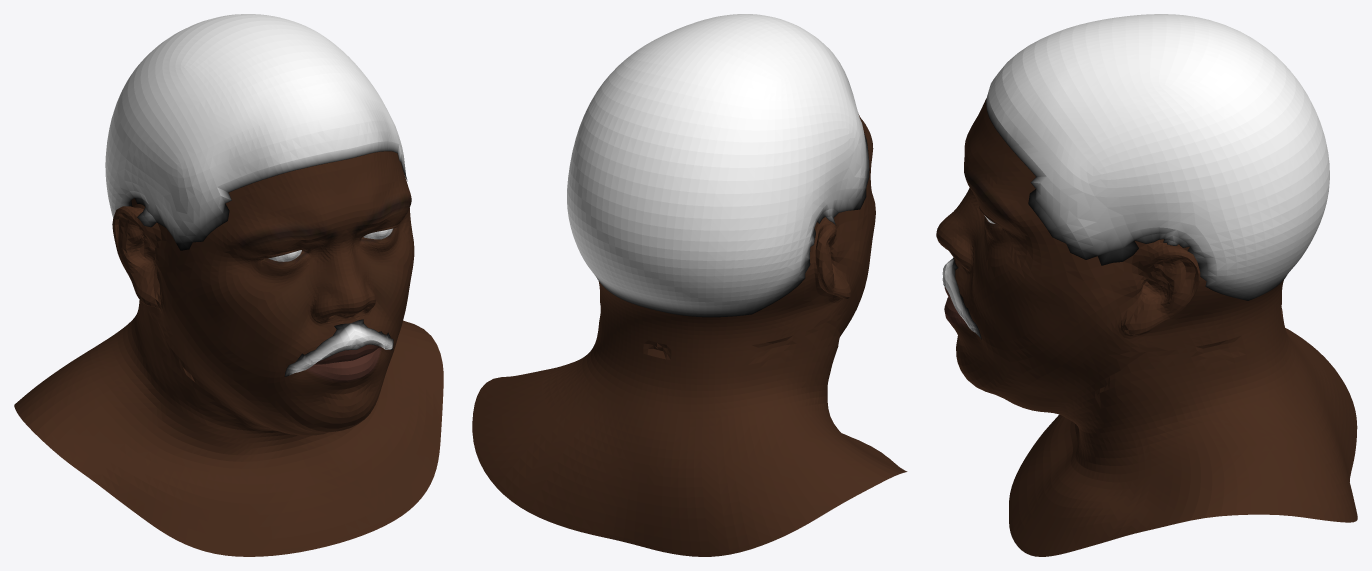
Rendered from srinivas.glb.
The picture shows the model from 3 angles, left to right: view 1: azimuth 30°, elevation 25°; view 2: azimuth 150°, elevation 25°; view 3: azimuth 270°, elevation 25°; orthographic projection. The views are drawn at different scales.
Parts seen in each view (by area): view 1: gnm_head; view 2: gnm_head; view 3: gnm_head.
Part boxes in pixels (x1,y1,x2,y2): gnm_head: (14,14,443,556); gnm_head: (472,14,907,556); gnm_head: (936,14,1357,556).
Bounding box in the file's own units: 0.2924 × 0.3268 × 0.2558.
